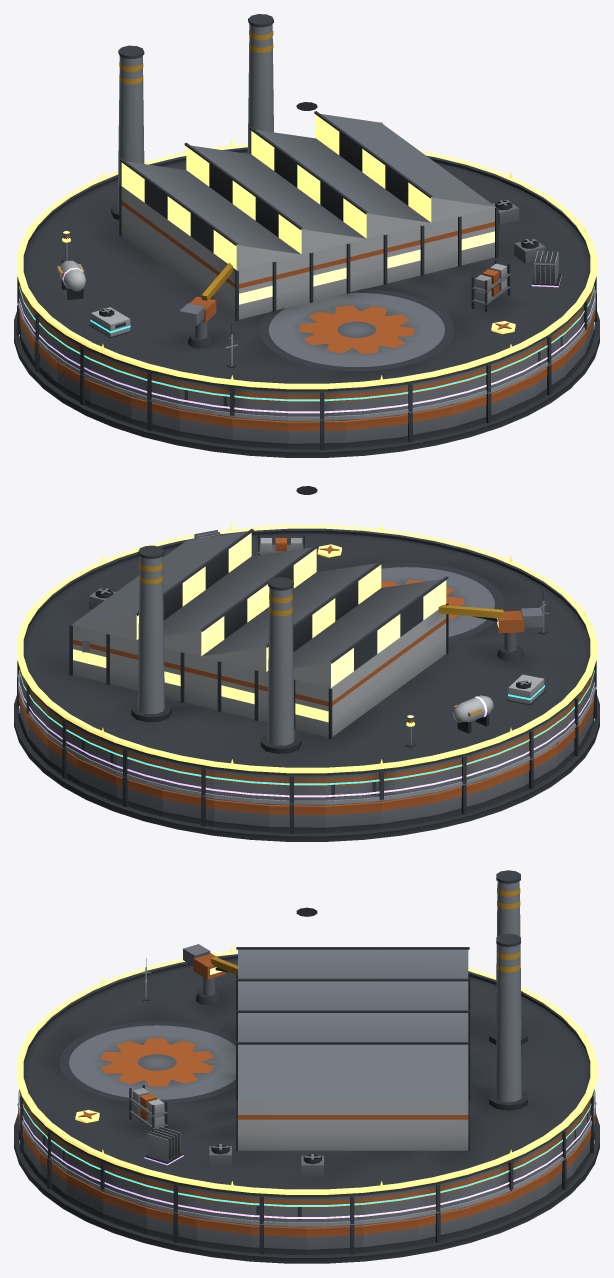
File: workshop_xl_far.glb
3 renders of one model, top to bottom at view 1: azimuth 30°, elevation 25°; view 2: azimuth 150°, elevation 25°; view 3: azimuth 270°, elevation 25°, orthographic.
Parts seen in each view (by area): view 1: Roof, Base, L5, L2, L4, L3; view 2: Roof, Base, L5, L2, L4, L3; view 3: Roof, Base, L5, L2, L4, L3.
Boxes of the visible parts, x1,y1,x2,y2 form: Roof: (17, 14, 596, 419); Base: (14, 292, 599, 457); L5: (17, 139, 596, 389); L2: (18, 289, 595, 420); L4: (19, 251, 594, 413); L3: (19, 286, 594, 401); Roof: (17, 486, 596, 803); Base: (14, 676, 599, 841); L5: (17, 523, 596, 773); L2: (18, 591, 595, 804); L4: (19, 530, 594, 797); L3: (19, 670, 594, 785); Roof: (19, 870, 594, 1224); Base: (14, 1102, 599, 1263); L5: (17, 945, 596, 1194); L2: (18, 958, 595, 1226); L4: (19, 1104, 594, 1218); L3: (19, 1092, 594, 1206).
Size of the model in its own units: 23.15 by 9.92 by 23.15.
